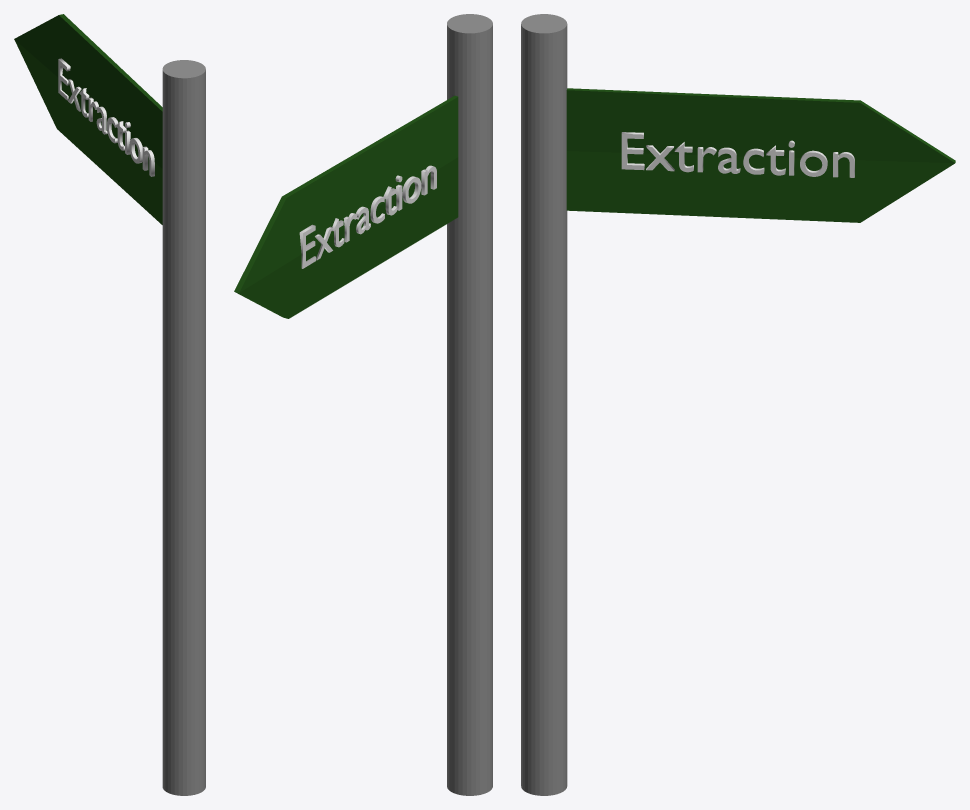
Rendered from ModularSign.fbx.
3 renders of one model, left to right at view 1: azimuth 30°, elevation 25°; view 2: azimuth 150°, elevation 25°; view 3: azimuth 270°, elevation 25°, orthographic. The views are drawn at different scales.
Parts seen in each view (by area): view 1: Cylinder, Cylinder.001, Text.001; view 2: Cylinder, Cylinder.001, Text.001; view 3: Cylinder.001, Cylinder, Text.
Boxes of the visible parts, <box> form: Cylinder: <box>162,60,205,795</box>; Cylinder.001: <box>14,14,162,224</box>; Text.001: <box>58,58,154,176</box>; Cylinder: <box>447,14,492,795</box>; Cylinder.001: <box>234,95,458,318</box>; Text.001: <box>299,165,436,268</box>; Cylinder.001: <box>566,88,955,222</box>; Cylinder: <box>521,14,567,795</box>; Text: <box>621,132,854,177</box>.
Bounding box in the file's own units: 255 × 3650 × 1886.
